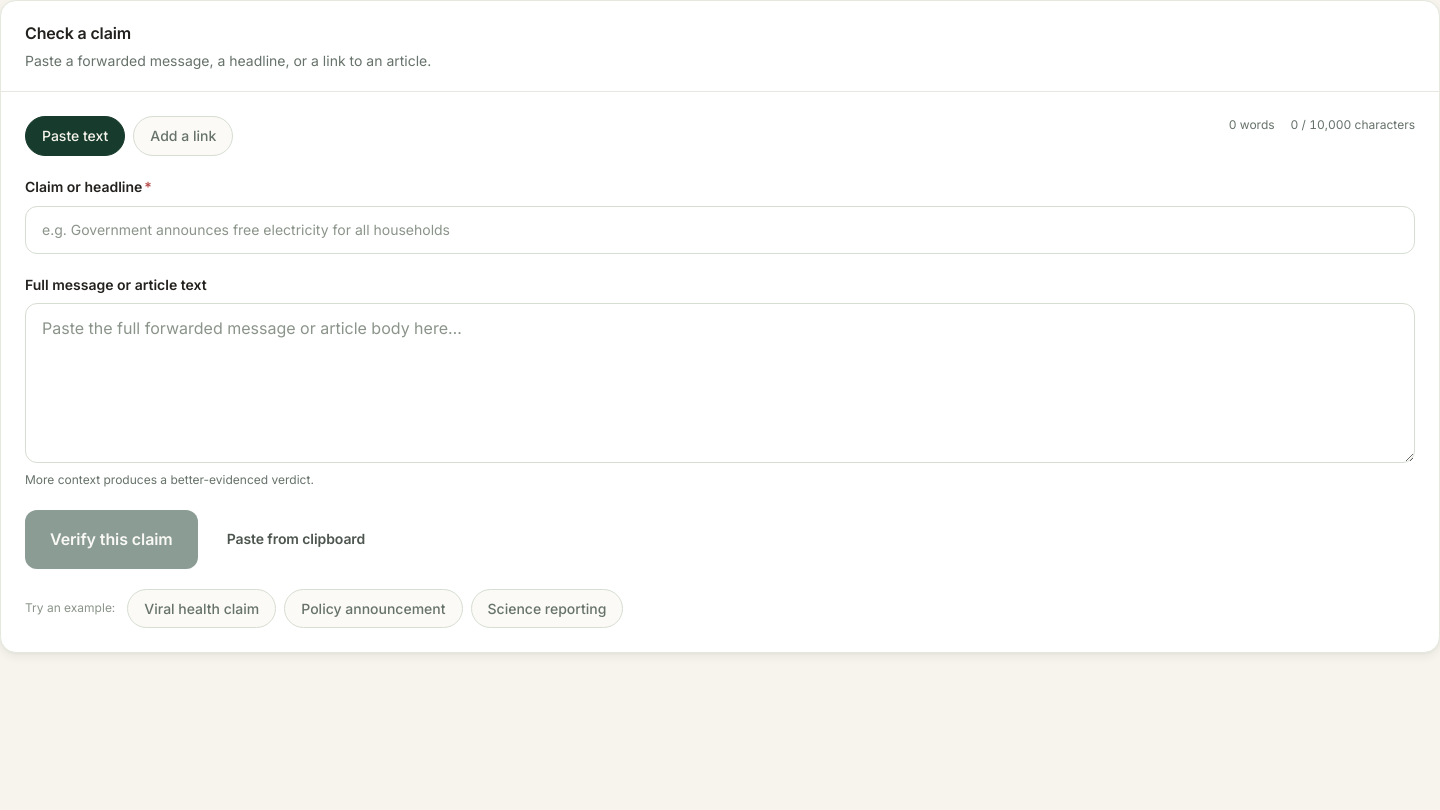
it: TC-FLOW-01 VerifyWorkspace input handling › loads a sample claim into the form
Click the button "Viral health claim". click: (202, 608)
box: [127,589,276,628]
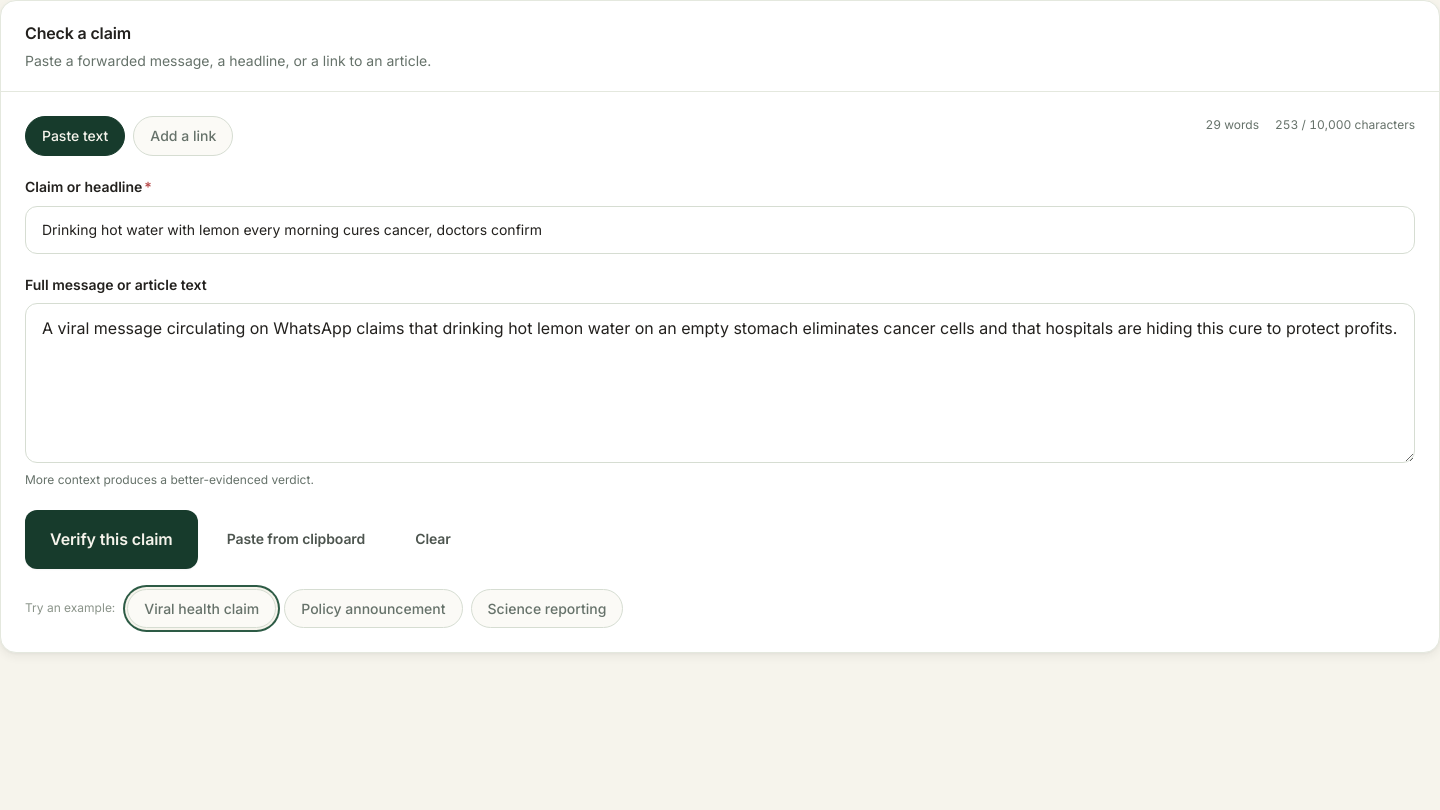
Expected: the field labelled "Claim or headline*" holds "Drinking hot water with lemon every morning cures cancer, doctors confirm", [25,206,1415,254]
